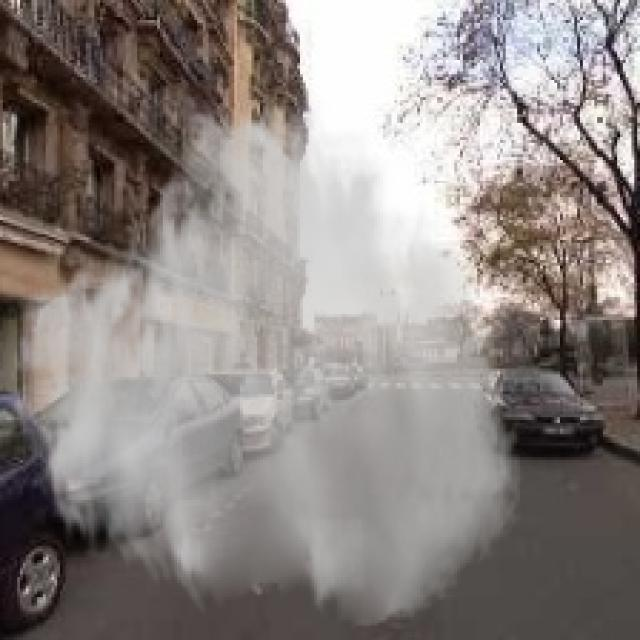smoke: (8, 80, 526, 631)
